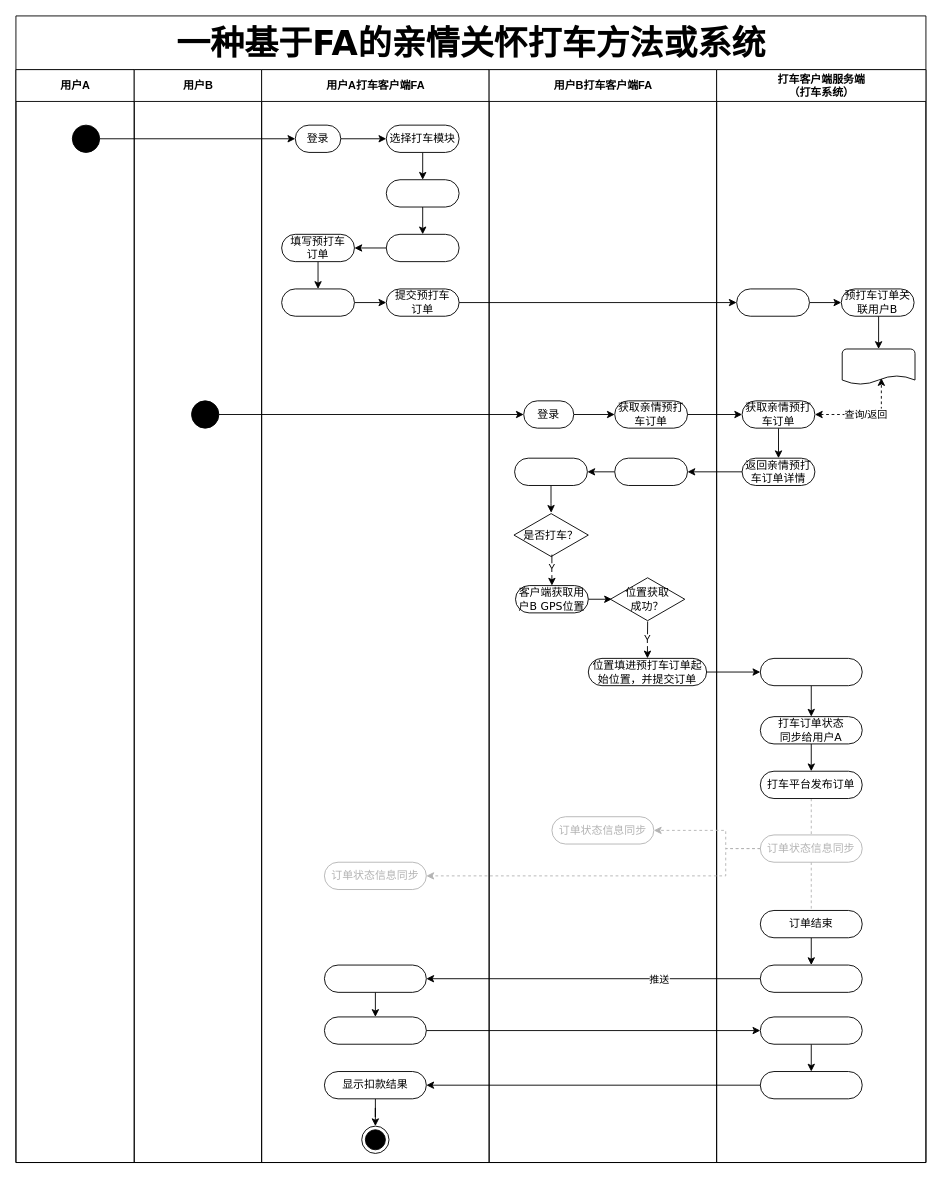
Image size: 942x1178. Some labels were removed from this diagram. Here are the shapes that lost their labels. From the top down, the centre of each, then its label:
At point (422, 193): "选择亲情打车".
At point (422, 247): "选择亲情 用户B".
At point (317, 302): "设置付费方式 （可选）".
At point (772, 302): "系统生成预打车订单".
At point (878, 366): "预打车订单数据信息".
At point (550, 471): "弹框确认用户是否打车".
At point (651, 471): "显示亲情预打车订单".
At point (810, 671): "系统生成打车订单".
At point (375, 978): "显示打车费用".
At point (810, 978): "结算费用".
At point (375, 1030): "用户付费".
At point (810, 1030): "扣款操作".
At point (810, 1085): "推送扣款结果".
